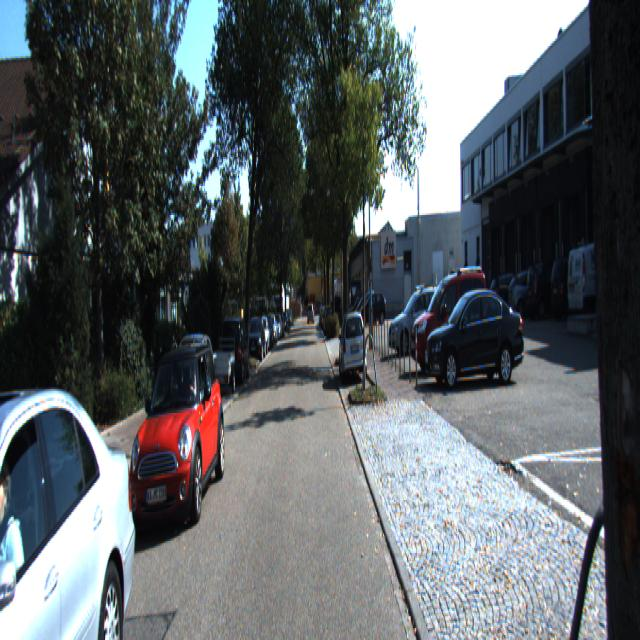Car: (0, 378, 147, 638), (127, 338, 226, 538), (422, 285, 528, 387), (410, 260, 495, 373), (164, 329, 216, 434), (388, 284, 450, 359), (338, 306, 369, 386), (220, 313, 250, 386), (245, 317, 266, 365)
DontCare: (265, 286, 338, 352), (502, 256, 566, 331), (353, 277, 388, 329)
Misc: (208, 343, 236, 391)
Van: (564, 232, 640, 326)
